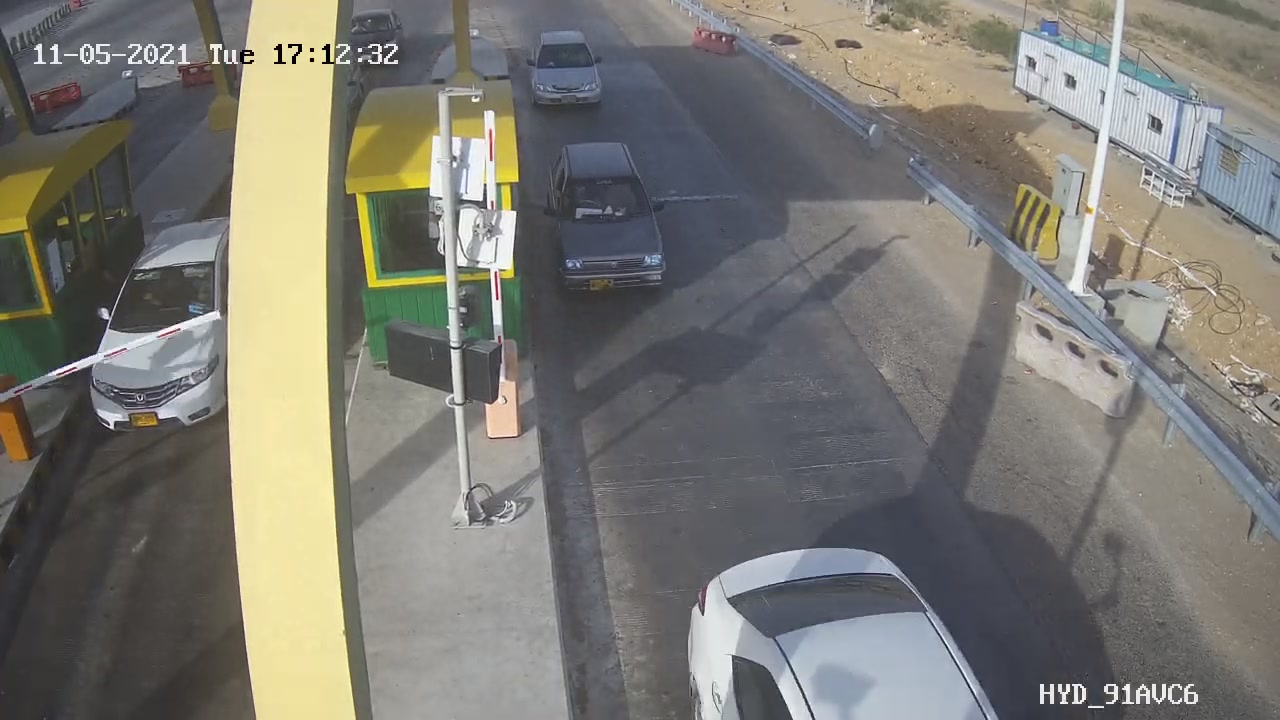F1: (530, 131, 690, 303), (516, 18, 618, 120)
